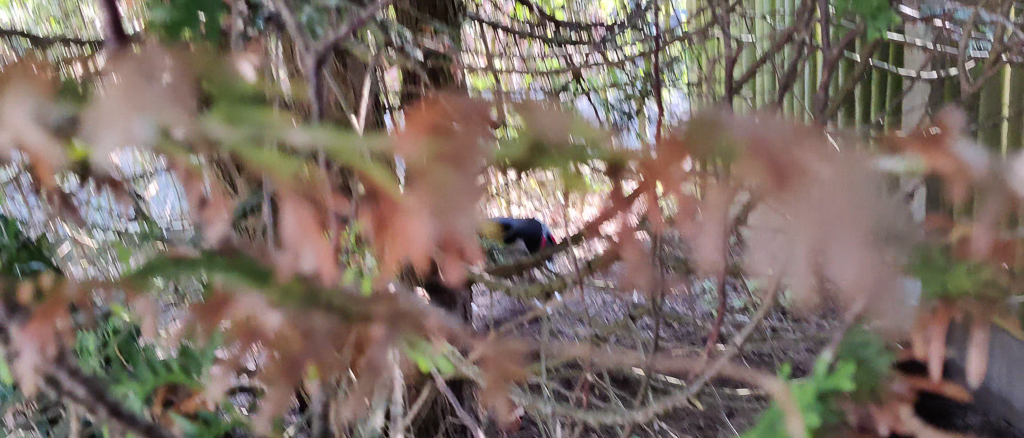Dog: (464, 209, 570, 308)
